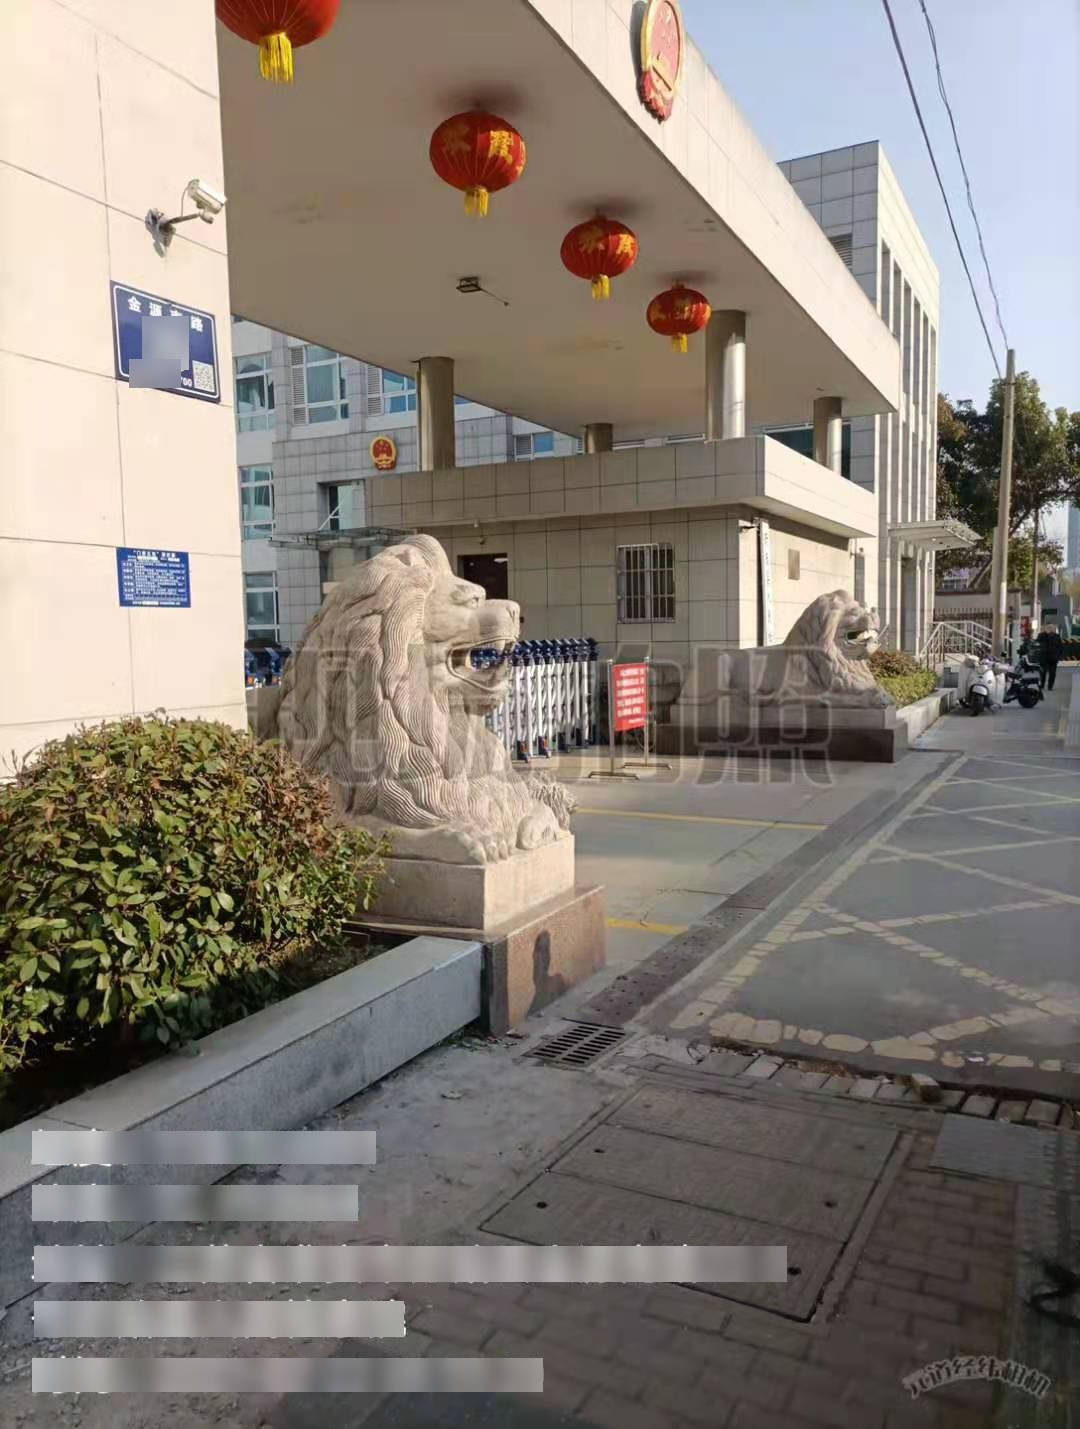good: (458, 1069, 922, 1339)
